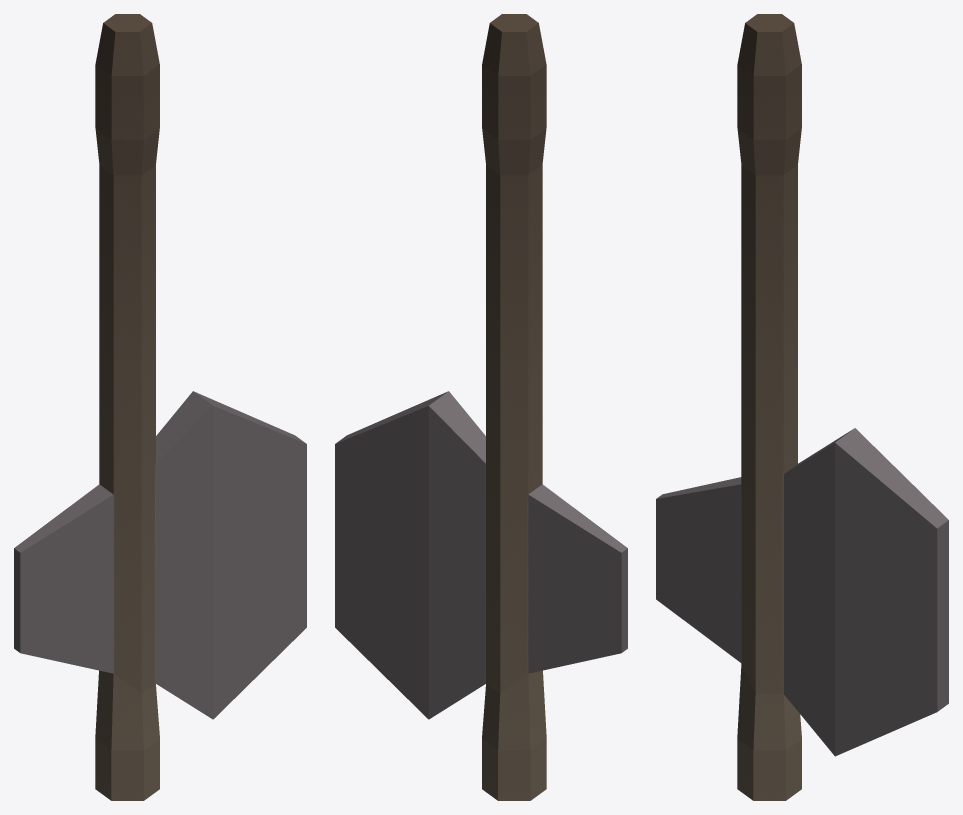
The model's file is axe.fbx.
3 views of the same model, side by side, from view 1: azimuth 30°, elevation 25°; view 2: azimuth 150°, elevation 25°; view 3: azimuth 330°, elevation 25° (orthographic).
Parts seen in each view (by area): view 1: Cylinder; view 2: Cylinder; view 3: Cylinder.
Boxes of the visible parts, x1,y1,x2,y2 form: Cylinder: (14, 14, 306, 800); Cylinder: (335, 14, 627, 800); Cylinder: (656, 14, 948, 800).
Bounding box in the file's own units: 164 × 422 × 32.39.
